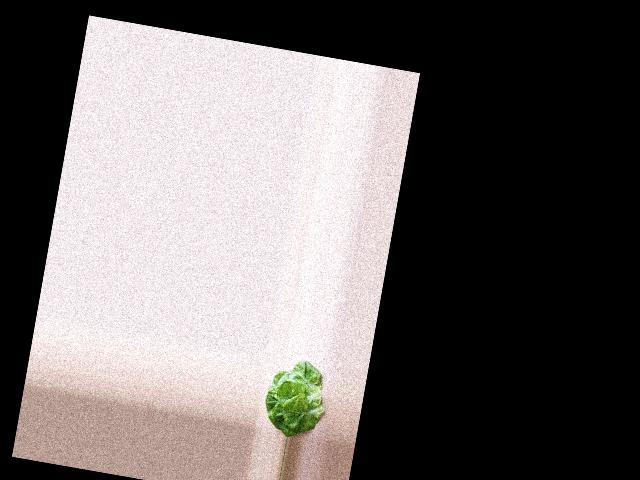lettuce: (260, 357, 329, 440)
